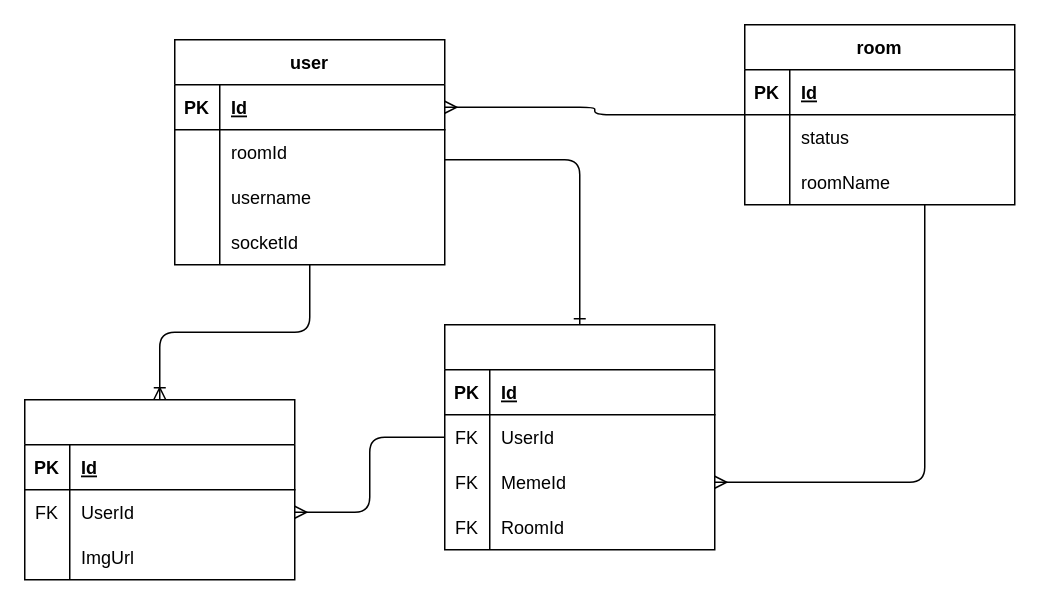
This 1040x605 diagram has some shape labels left out. The box of each missing label's shape, as (x1, y1, x2, y2) in pixels:
meme: (23, 398, 295, 580)
vote: (443, 323, 715, 550)
